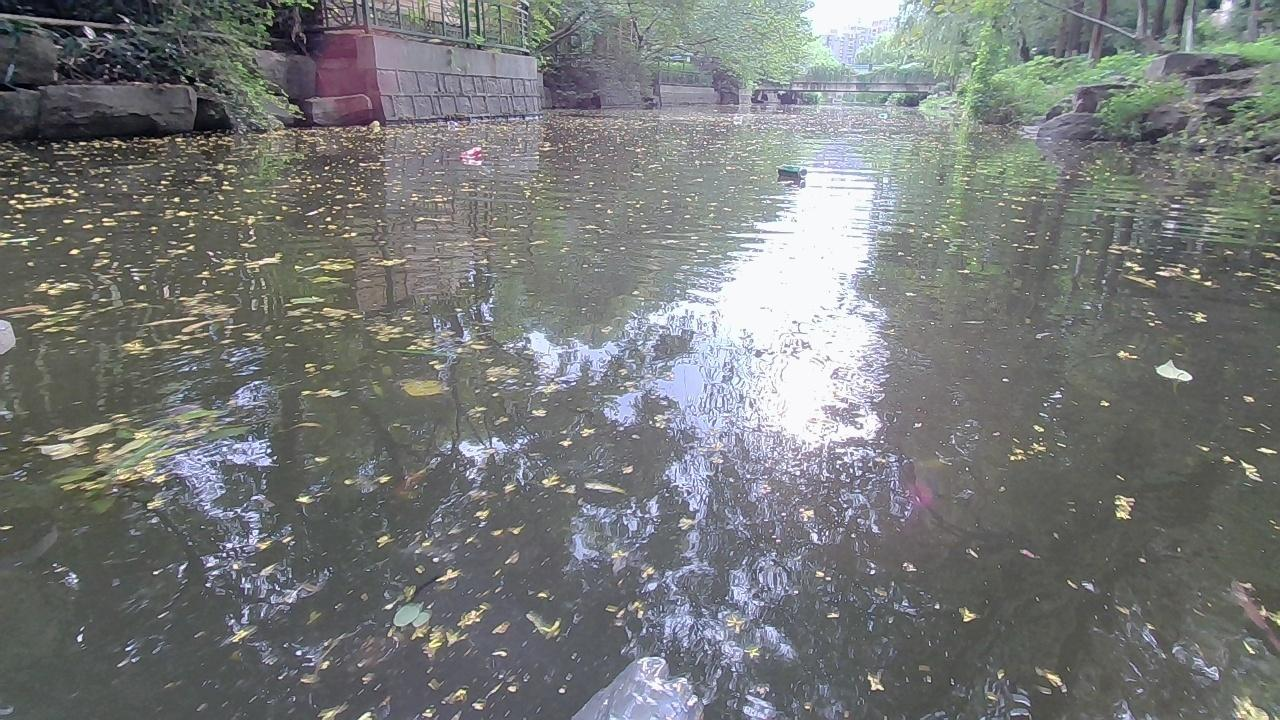bottle: (775, 162, 809, 182), (457, 142, 487, 156), (444, 116, 465, 131), (878, 112, 892, 119)
